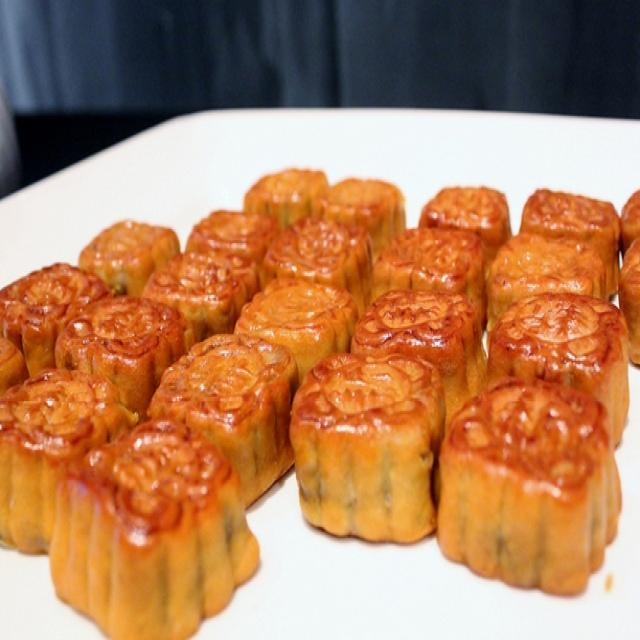蛋糕甜品: (22, 165, 623, 629)
